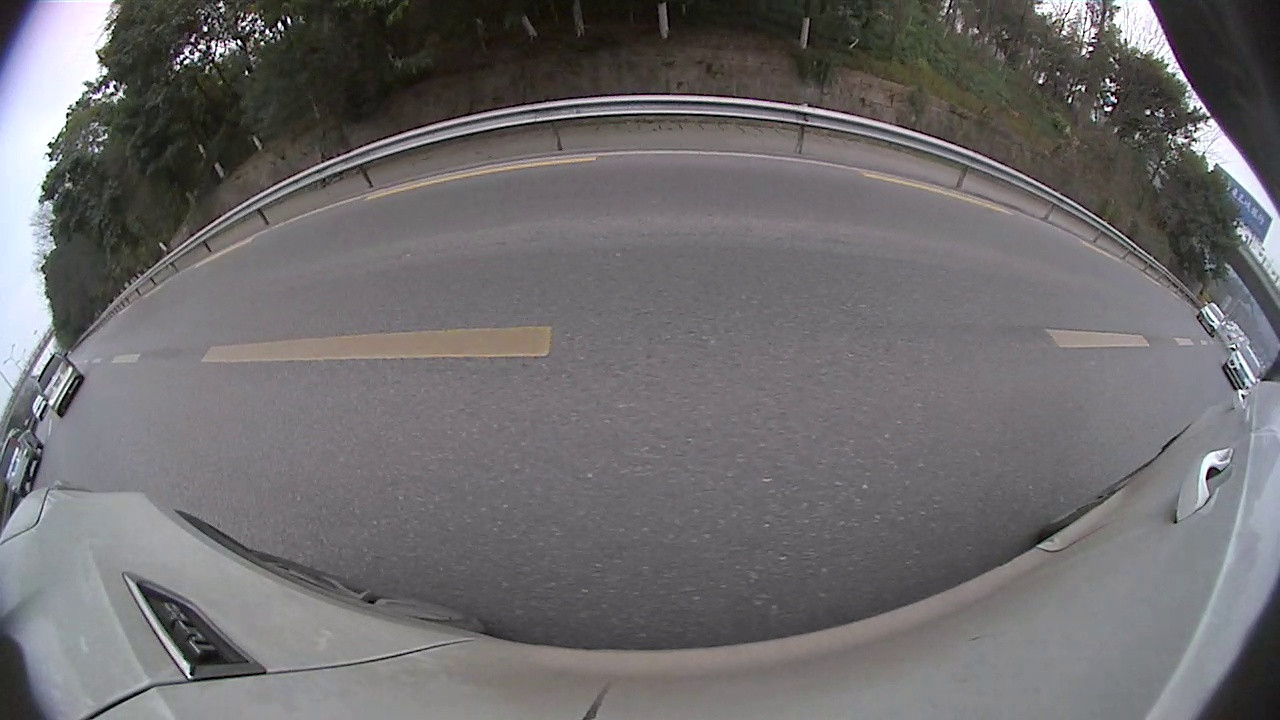car: (35, 351, 85, 418), (1, 427, 46, 498), (1220, 343, 1265, 399), (1195, 300, 1227, 338), (30, 394, 52, 422)
